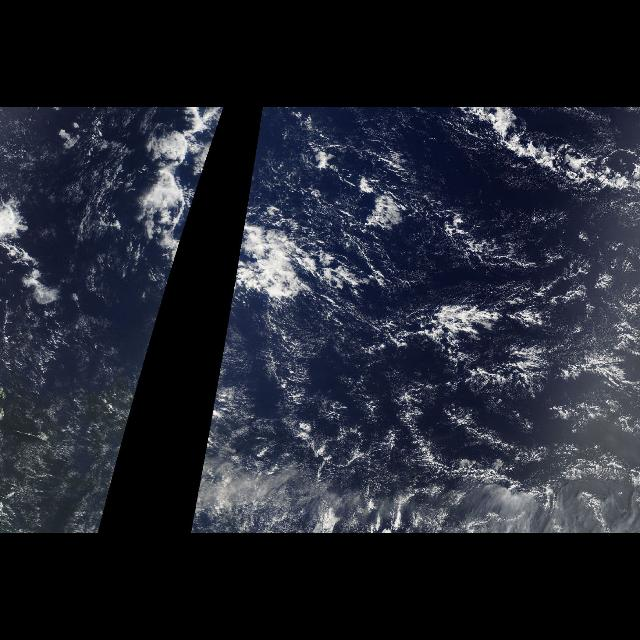Fish: (472, 108, 640, 204)
Gravel: (474, 227, 640, 443)
Sugar: (206, 308, 632, 526), (387, 112, 638, 300), (1, 316, 129, 526)
